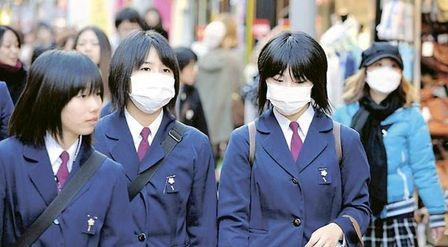NONE: (59, 87, 105, 135), (76, 40, 102, 68), (1, 37, 21, 67)
OK: (125, 57, 176, 108), (266, 71, 310, 115), (369, 62, 402, 93)
